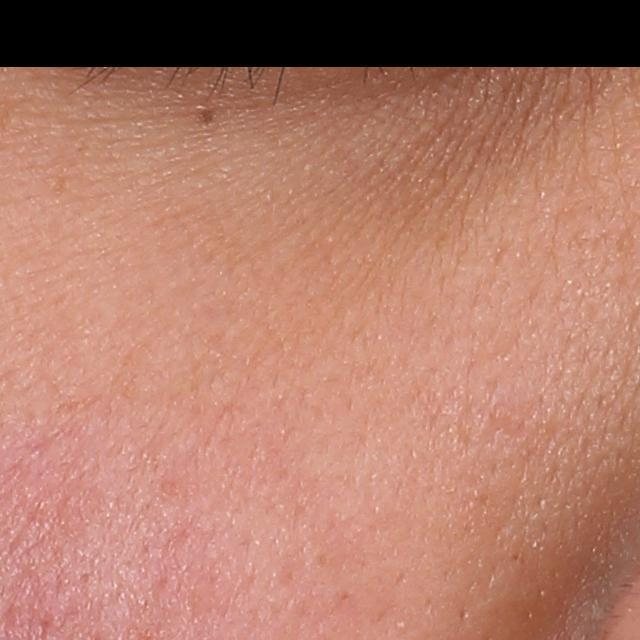nevus: (196, 107, 217, 128)
